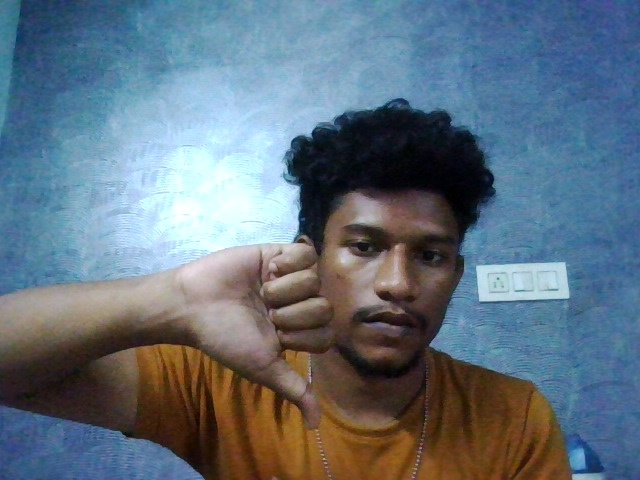no: (172, 242, 345, 441)
